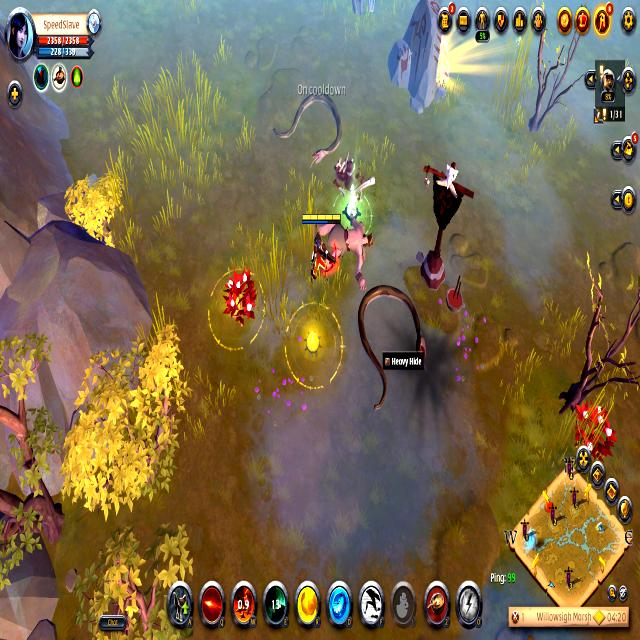hide: (567, 387, 616, 476), (223, 266, 263, 333)
red: (300, 211, 350, 294)
